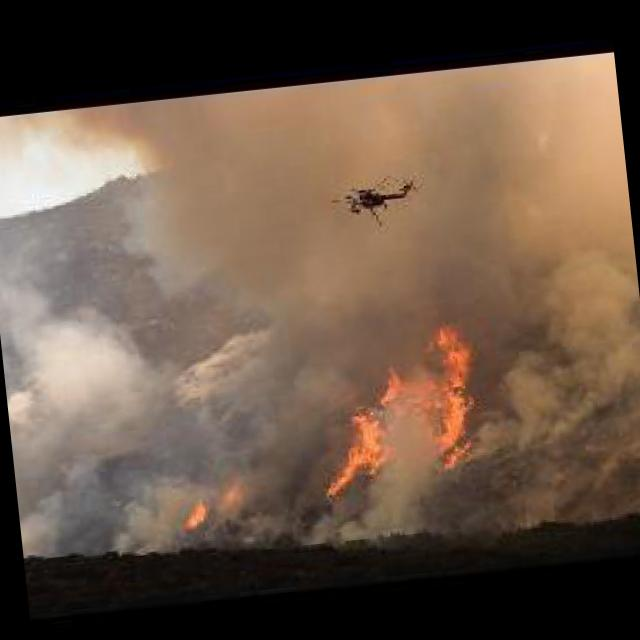fire: (298, 302, 498, 500), (175, 470, 254, 534)
